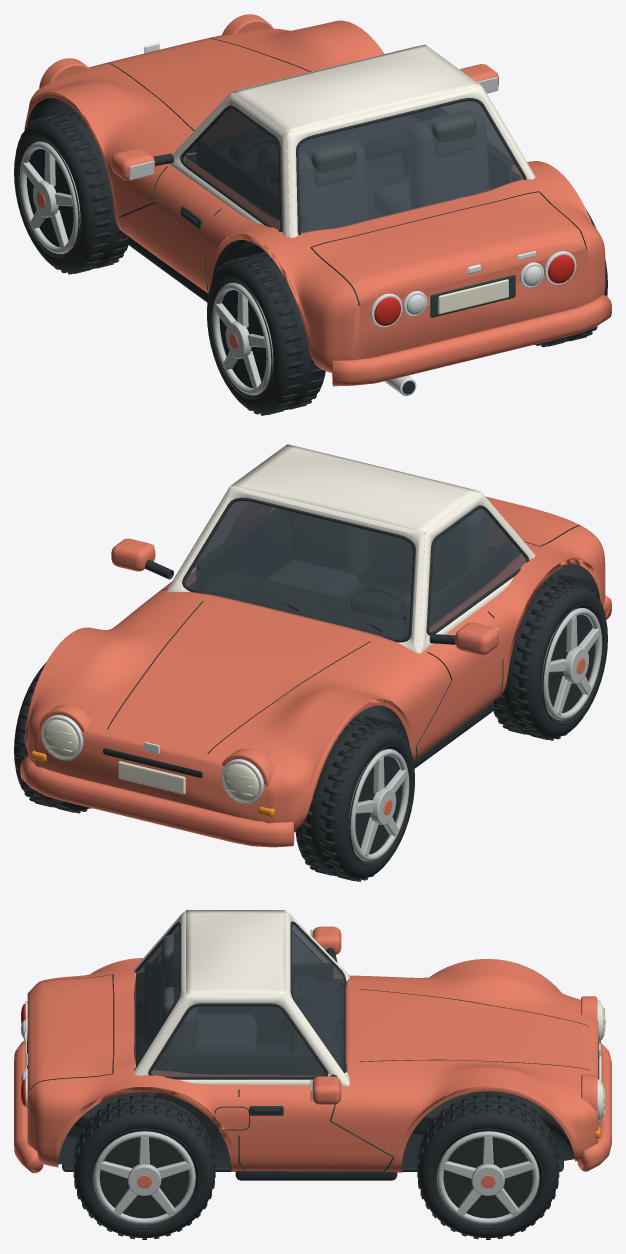
Rendered from roadster.fbx.
3 views of the same model, one above another, from view 1: azimuth 30°, elevation 25°; view 2: azimuth 150°, elevation 25°; view 3: azimuth 270°, elevation 25° (orthographic). The views are drawn at different scales.
Parts seen in each view (by area): view 1: Body, Wheel_RL_Mesh, Wheel_FL_Mesh; view 2: Body, Wheel_FL_Mesh, Wheel_RL_Mesh, Wheel_FR_Mesh; view 3: Body, Wheel_FR_Mesh, Wheel_RR_Mesh, Wheel_RL_Mesh.
Boxes of the visible parts, x1,y1,x2,y2 form: Body: (24, 14, 611, 395); Wheel_RL_Mesh: (207, 251, 325, 415); Wheel_FL_Mesh: (14, 110, 128, 274); Body: (20, 444, 611, 847); Wheel_FL_Mesh: (295, 717, 414, 881); Wheel_RL_Mesh: (493, 576, 607, 740); Wheel_FR_Mesh: (14, 662, 91, 813); Body: (14, 910, 611, 1180); Wheel_FR_Mesh: (417, 1095, 559, 1239); Wheel_RR_Mesh: (73, 1095, 215, 1239); Wheel_RL_Mesh: (137, 979, 144, 1037).
Bounding box in the file's own units: 226 × 145 × 348.
